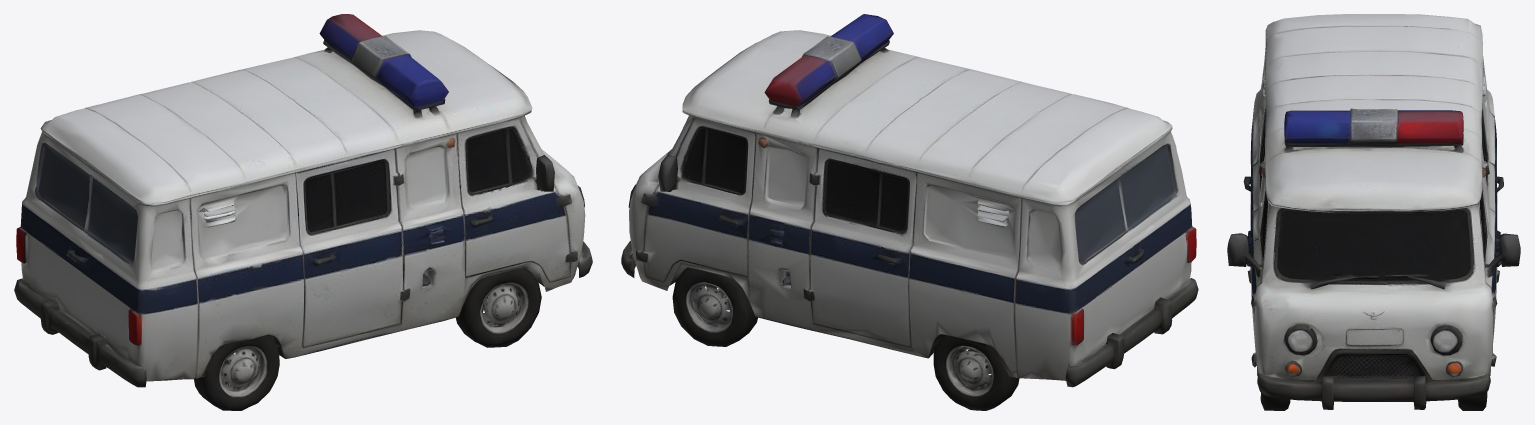
Rendered from van_police.glb.
The picture shows the model from 3 angles, left to right: view 1: azimuth 30°, elevation 25°; view 2: azimuth 150°, elevation 25°; view 3: azimuth 270°, elevation 25°; orthographic projection. The views are drawn at different scales.
Parts seen in each view (by area): view 1: tripo_node_6b303b83-c37d-4a9b-a5d8-4073ff028d98; view 2: tripo_node_6b303b83-c37d-4a9b-a5d8-4073ff028d98; view 3: tripo_node_6b303b83-c37d-4a9b-a5d8-4073ff028d98.
Part boxes in pixels (<box>): tripo_node_6b303b83-c37d-4a9b-a5d8-4073ff028d98: <box>14,14,592,410</box>; tripo_node_6b303b83-c37d-4a9b-a5d8-4073ff028d98: <box>621,14,1198,410</box>; tripo_node_6b303b83-c37d-4a9b-a5d8-4073ff028d98: <box>1227,14,1520,410</box>.
Size of the model in its own units: 1 by 0.5371 by 0.5435.
1 material, 1 textured.
